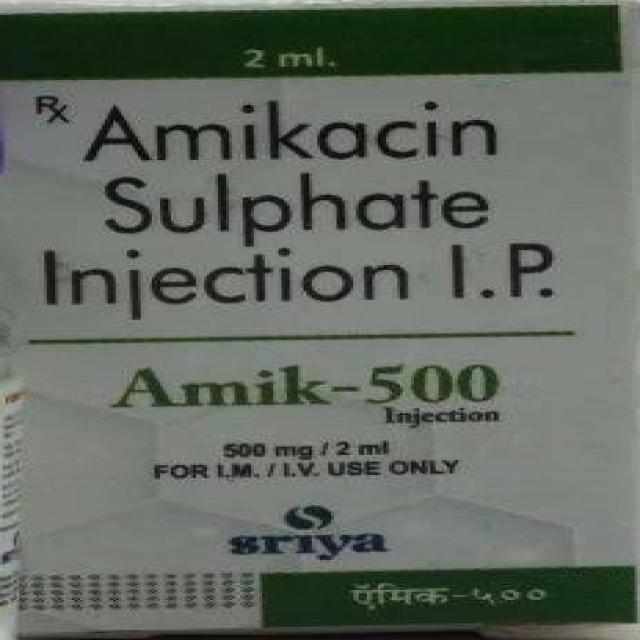drug-name: (111, 354, 536, 409)
